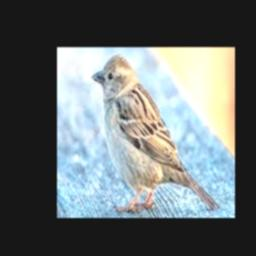Sparrow: (91, 54, 219, 212)
